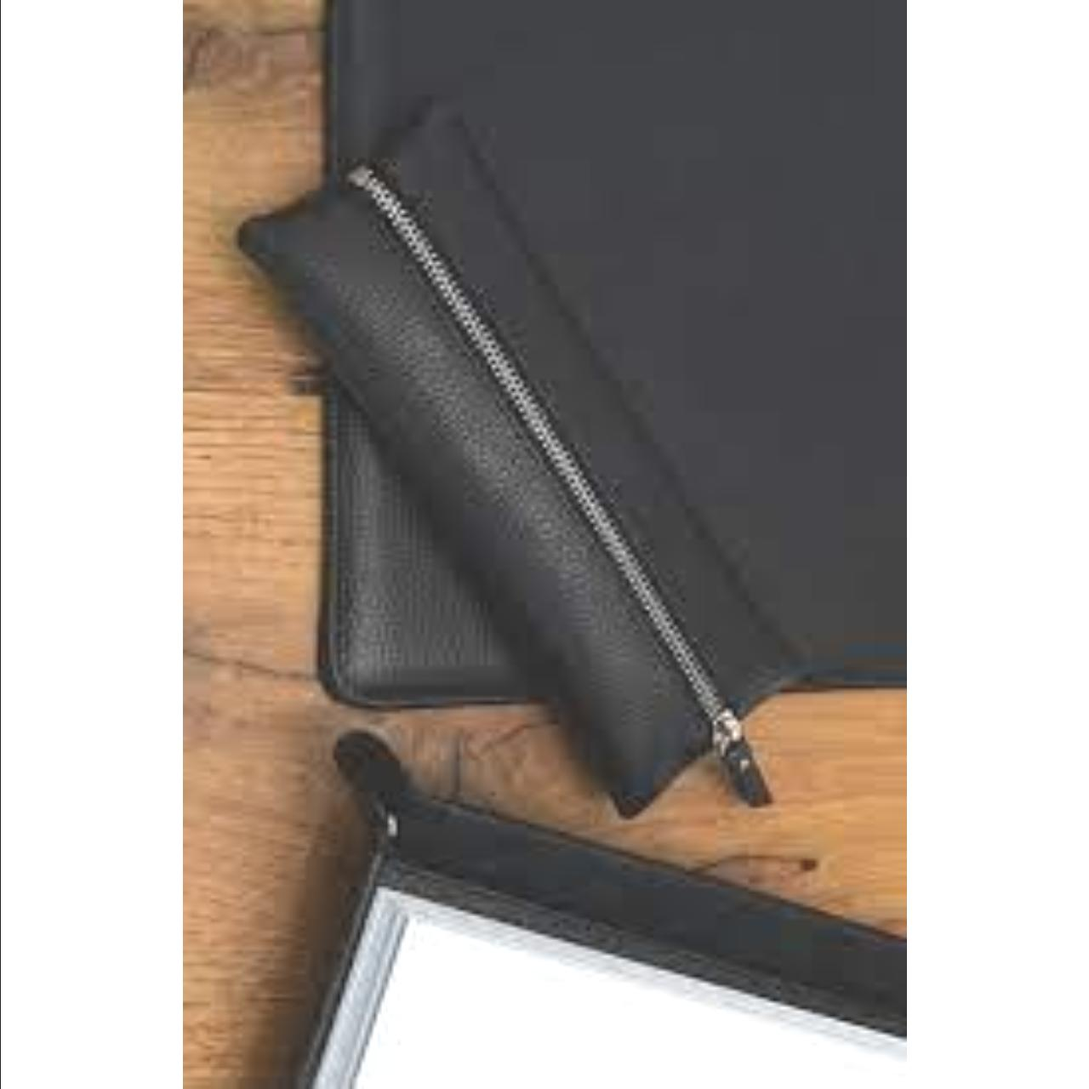wallet: (226, 73, 804, 873)
